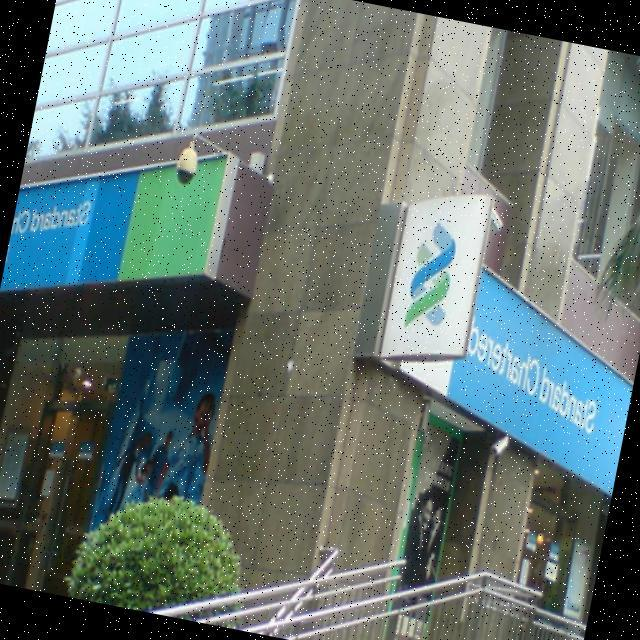Standard Chartered: (398, 215, 467, 338)
